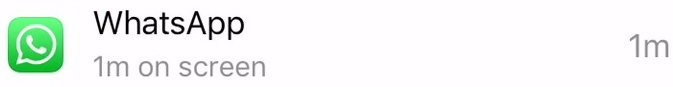name: (82, 3, 261, 44)
time: (88, 49, 134, 87)
